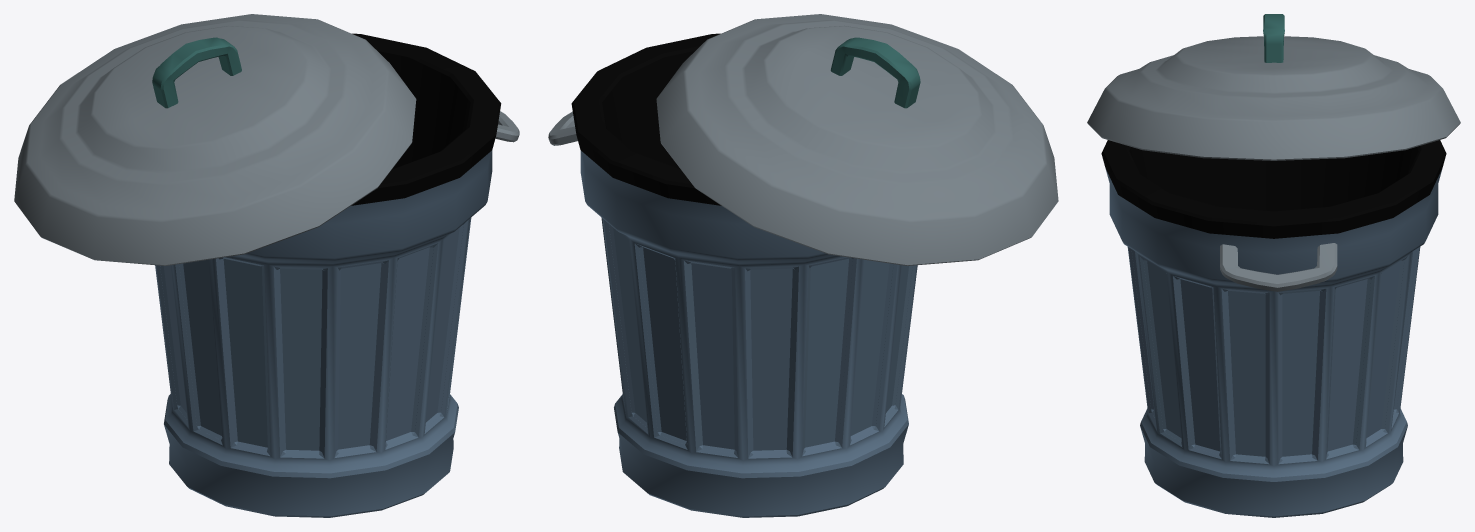
Rendered from Lixeira.fbx.
3 views of the same model, side by side, from view 1: azimuth 30°, elevation 25°; view 2: azimuth 150°, elevation 25°; view 3: azimuth 270°, elevation 25° (orthographic). The views are drawn at different scales.
Visible parts, largest first — view 1: Lixeira, TampaLixeira; view 2: Lixeira, TampaLixeira; view 3: Lixeira, TampaLixeira.
Part boxes in pixels (<box>): Lixeira: <box>155,33,519,517</box>; TampaLixeira: <box>14,14,416,265</box>; Lixeira: <box>548,33,917,517</box>; TampaLixeira: <box>656,14,1058,265</box>; Lixeira: <box>1101,140,1446,517</box>; TampaLixeira: <box>1087,14,1460,160</box>.
Size of the model in its own units: 152 by 137 by 116.
